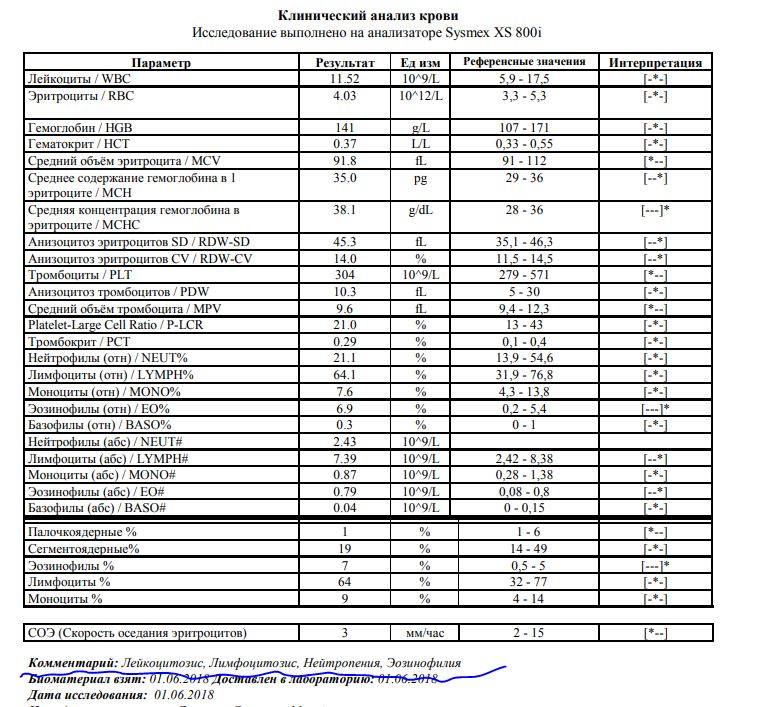column: (26, 52, 253, 515), (462, 52, 586, 515), (607, 52, 703, 515), (314, 52, 376, 515), (398, 52, 444, 515), (26, 523, 140, 606), (26, 623, 248, 641), (508, 523, 548, 606), (640, 523, 670, 606), (336, 523, 352, 606), (417, 523, 431, 606), (404, 623, 445, 641), (511, 623, 545, 641), (642, 623, 668, 641), (340, 623, 348, 641)
